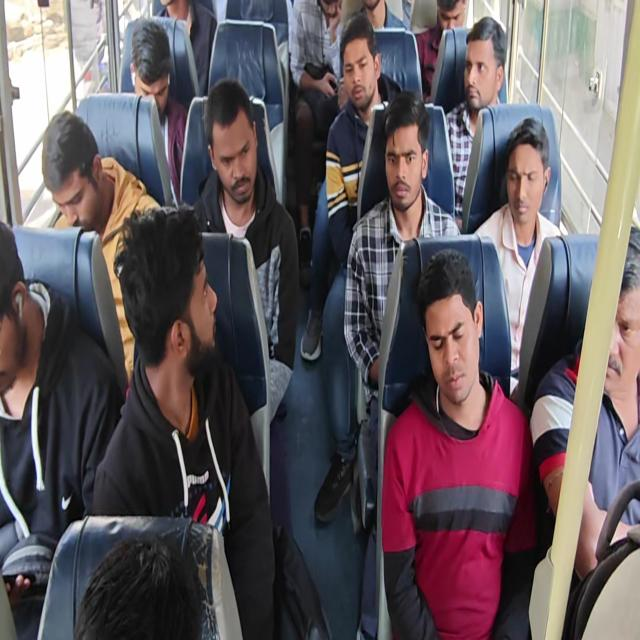person: (77, 522, 253, 640), (141, 237, 238, 389), (400, 264, 493, 405), (582, 244, 640, 406), (0, 222, 44, 408), (38, 123, 114, 220), (213, 83, 258, 213), (380, 119, 430, 217), (502, 136, 548, 220), (459, 22, 498, 109), (134, 22, 169, 98), (429, 0, 468, 49), (346, 41, 374, 104)
